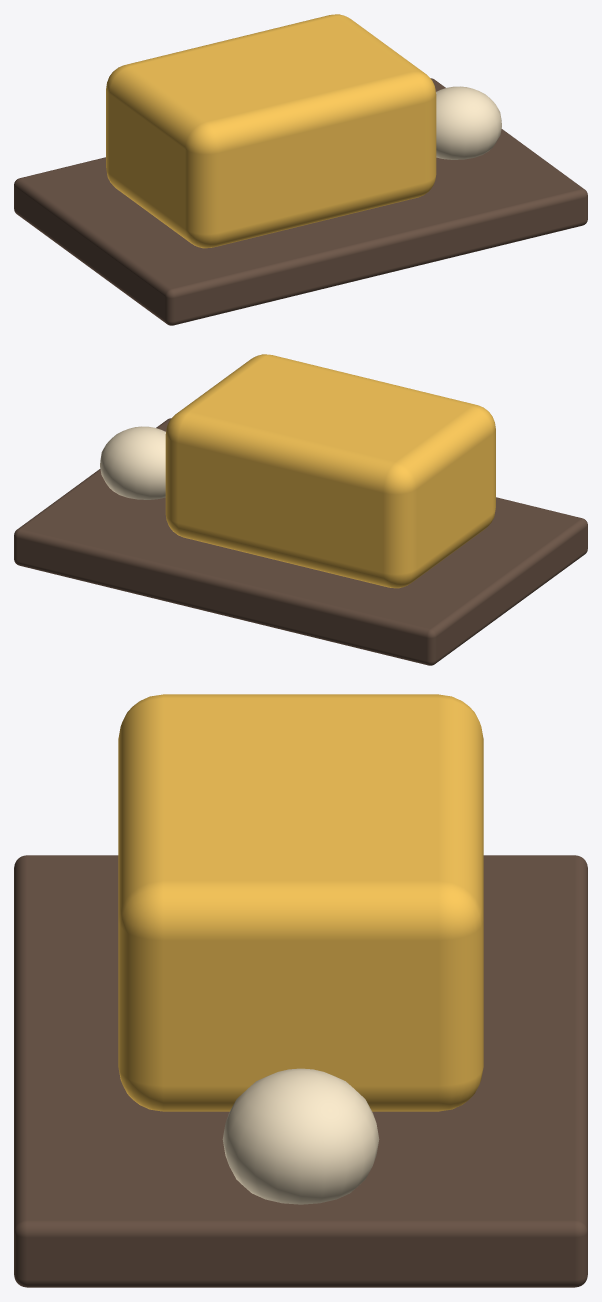
Rendered from 37-omelette.glb.
The picture shows the model from 3 angles, top to bottom: view 1: azimuth 30°, elevation 25°; view 2: azimuth 150°, elevation 25°; view 3: azimuth 270°, elevation 25°; orthographic projection. The views are drawn at different scales.
Visible parts, largest first — view 1: 다시 계란말이; view 2: 다시 계란말이; view 3: 다시 계란말이.
Boxes of the visible parts, <box> form: 다시 계란말이: <box>14,14,587,325</box>; 다시 계란말이: <box>14,354,587,665</box>; 다시 계란말이: <box>14,694,587,1287</box>.
Size of the model in its own units: 1.7 by 0.61 by 1.1.
